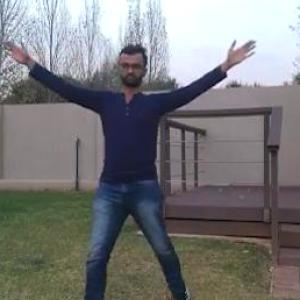takeoff: (0, 32, 264, 299)
